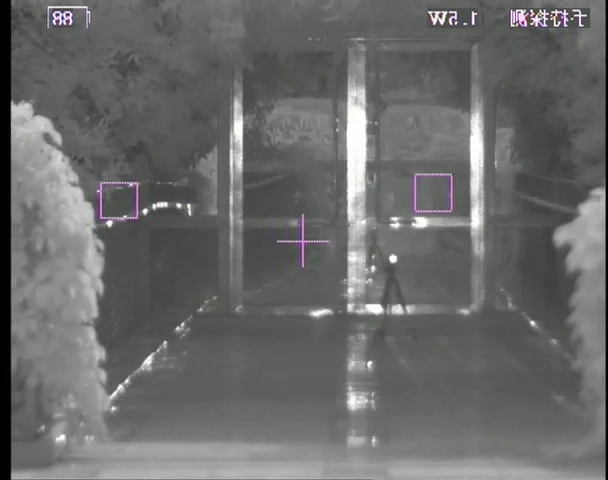my: (387, 252, 397, 264)
